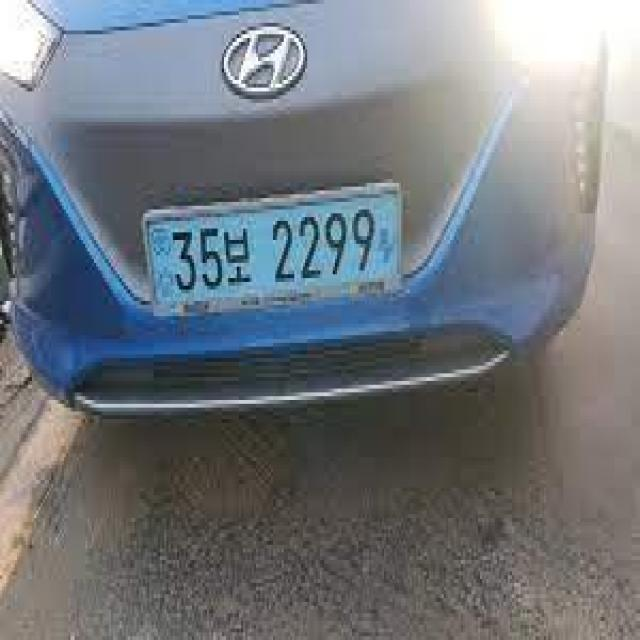EV_plate: (144, 184, 408, 313)
